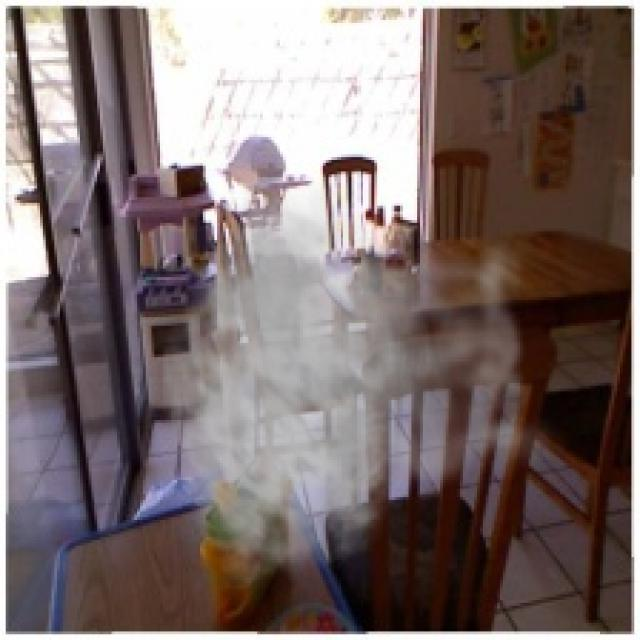smoke: (160, 163, 560, 588)
